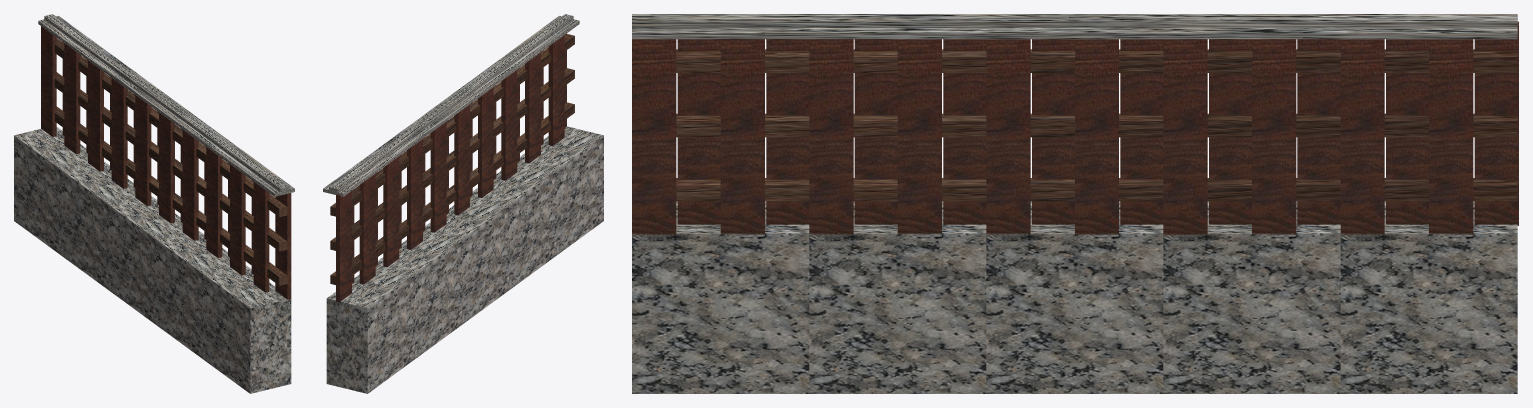
Rendered from Background.fbx.
The picture shows the model from 3 angles, left to right: view 1: azimuth 30°, elevation 25°; view 2: azimuth 150°, elevation 25°; view 3: azimuth 270°, elevation 25°; orthographic projection. The views are drawn at different scales.
Visible parts, largest first — view 1: 立方体.012, 立方体.014, 立方体.016, 立方体.011, 立方体.017, 立方体.013; view 2: 立方体.012, 立方体.014, 立方体.016, 立方体.011, 立方体.017, 立方体.013; view 3: 立方体.012, 立方体.013, 立方体.014, 立方体.016, 立方体.017, 立方体.011.
Boxes of the visible parts, <box> form: 立方体.012: <box>14,127,291,393</box>; 立方体.014: <box>41,26,269,292</box>; 立方体.016: <box>54,38,287,285</box>; 立方体.011: <box>38,16,294,196</box>; 立方体.017: <box>44,14,288,192</box>; 立方体.013: <box>62,42,291,299</box>; 立方体.012: <box>326,126,603,393</box>; 立方体.014: <box>336,35,564,302</box>; 立方体.016: <box>330,34,574,284</box>; 立方体.011: <box>323,16,579,196</box>; 立方体.017: <box>329,14,573,192</box>; 立方体.013: <box>352,33,566,283</box>; 立方体.012: <box>632,201,1517,393</box>; 立方体.013: <box>632,39,1473,234</box>; 立方体.014: <box>677,21,1518,225</box>; 立方体.016: <box>676,49,1517,201</box>; 立方体.017: <box>632,14,1517,27</box>; 立方体.011: <box>632,27,1517,39</box>.
Size of the model in its own units: 218 by 923 by 2003.
